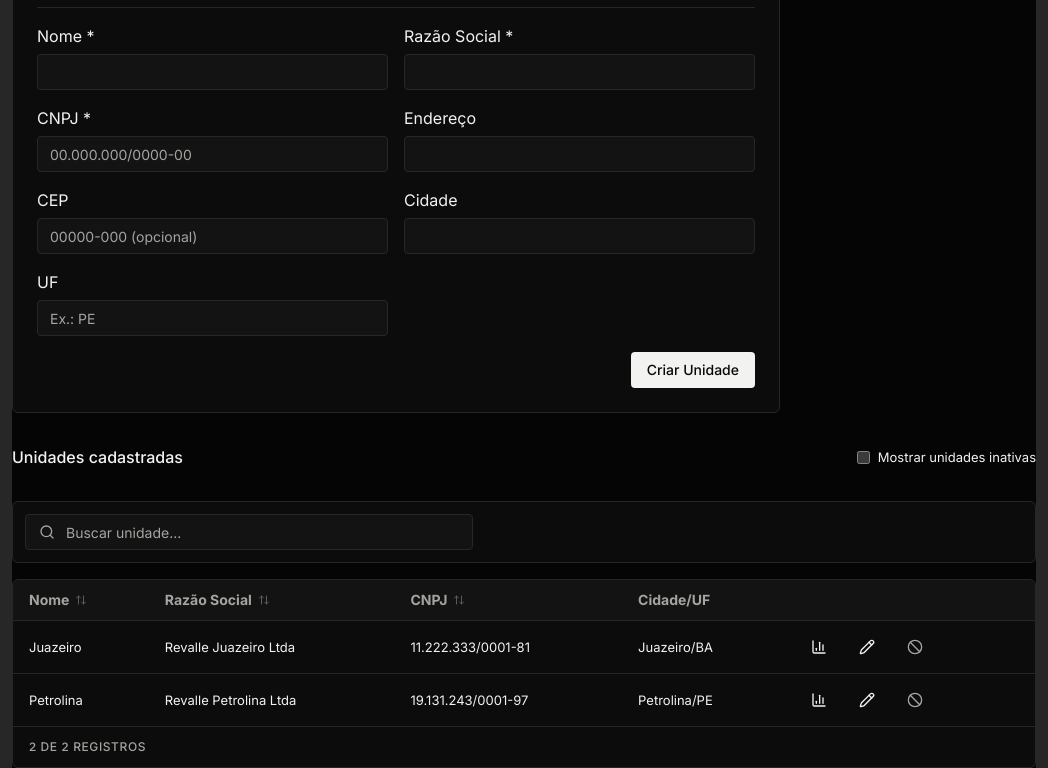
Test case: UnidadesPage — indicadores › mostra "carregando" e depois os indicadores com rótulos em português
(page scrolled)
Step 1. Click the button named "Indicadores da unidade Juazeiro" → x=818, y=647, box [798,631,838,663]
(page scrolled)
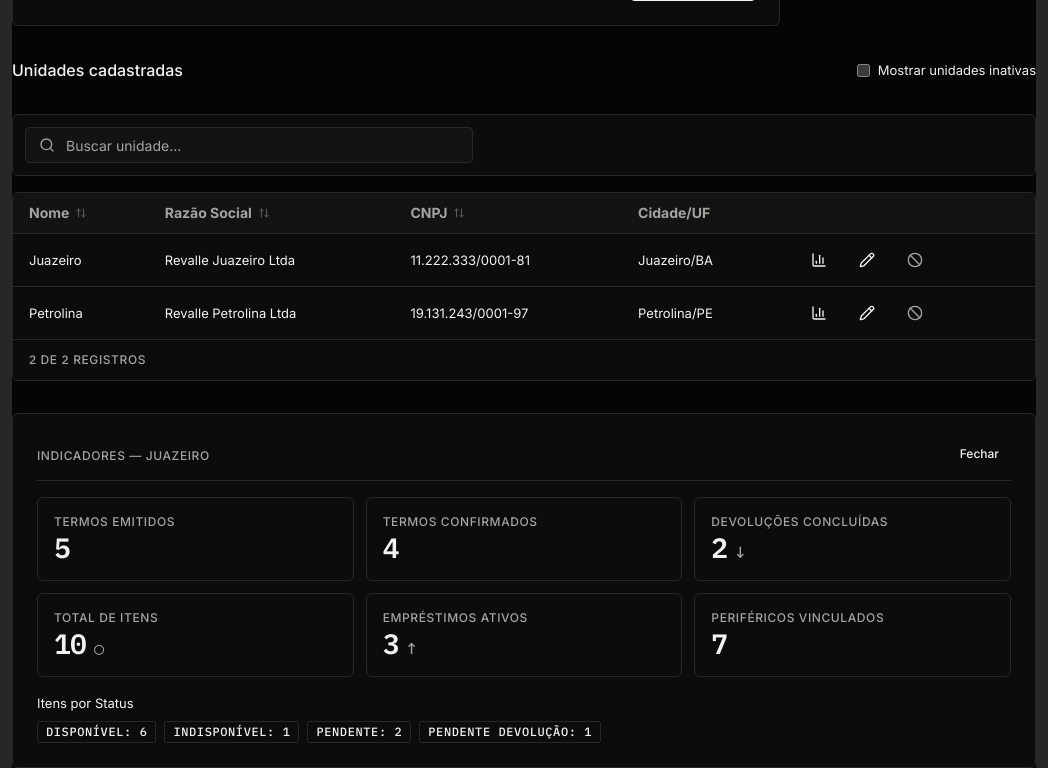
expect the text "Termos Emitidos" is shown: met, box [54,514,175,529]
expect the text "5" is shown: met, box [54,532,70,564]
expect the text "Termos Confirmados" is shown: met, box [383,514,538,529]
